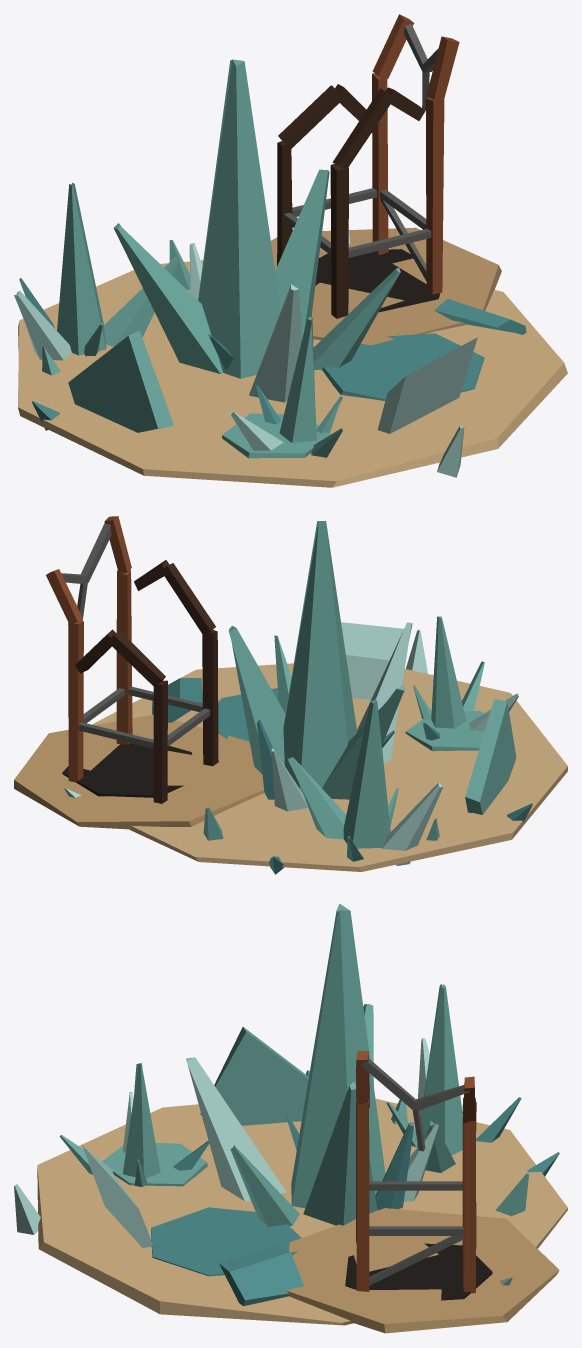
The model's file is glass_flats.glb.
The picture shows the model from 3 angles, top to bottom: view 1: azimuth 30°, elevation 25°; view 2: azimuth 150°, elevation 25°; view 3: azimuth 270°, elevation 25°; orthographic projection. The views are drawn at different scales.
Parts seen in each view (by area): view 1: glass_flats; view 2: glass_flats; view 3: glass_flats.
Part boxes in pixels (box(x1,y1,x2,y2)): glass_flats: box(14, 14, 567, 487); glass_flats: box(14, 516, 567, 874); glass_flats: box(14, 903, 567, 1333).
Size of the model in its own units: 9.59 by 6.03 by 9.33.
